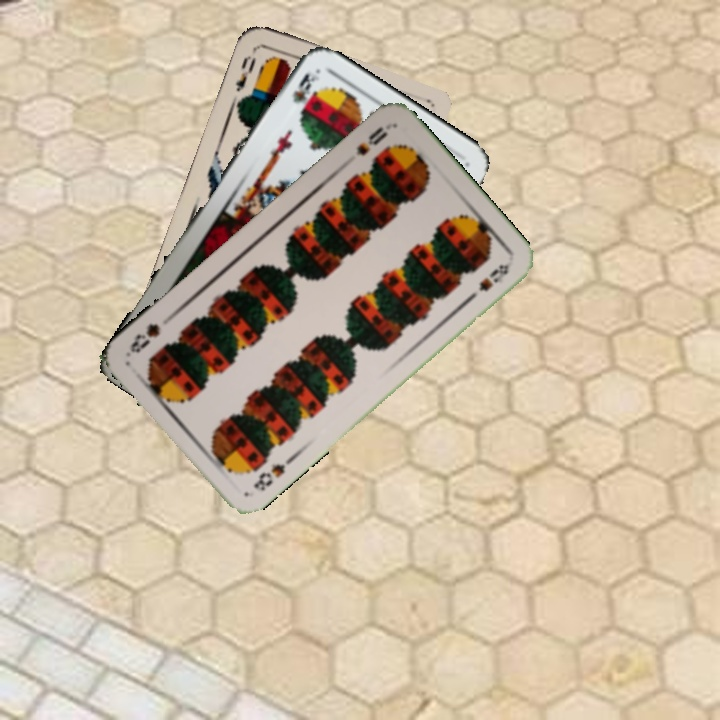EO: (231, 51, 259, 95)
S8: (249, 452, 297, 494), (352, 121, 393, 159)
SK: (288, 67, 322, 106)
